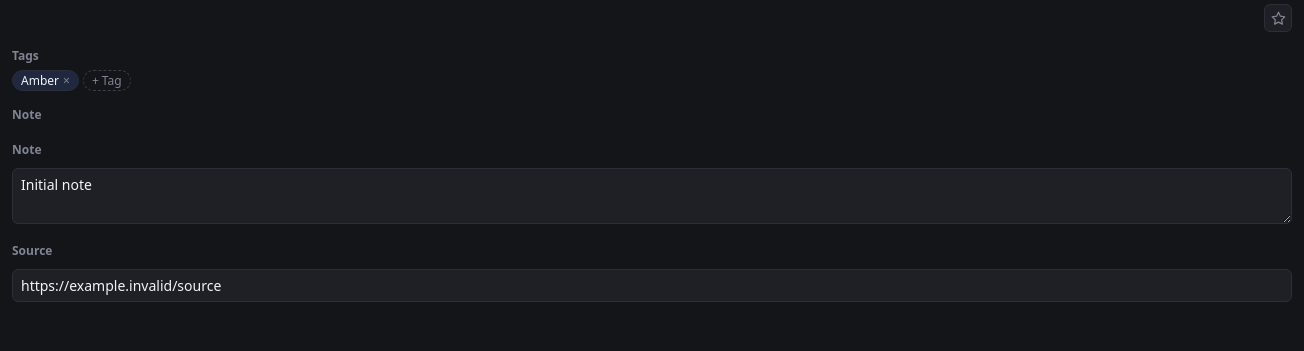
Test: File note and source save causally with $alive and retain drafts in localStorage
The image size is (1304, 351).
Expected: the field named "File source" holds "https://example.invalid/source", [12,269,1292,302]
Replace the text in the text box named "file note" with "Updated note" at (652, 196), box [12,168,1292,224]
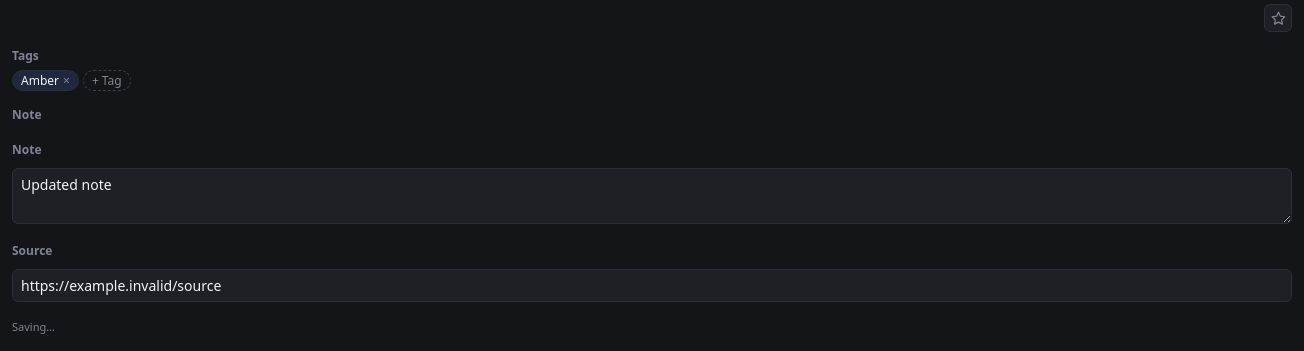
Replace the text in the field named "File source" with "https://synthetic.invalid/clip" at (652, 286), box [12,269,1292,302]
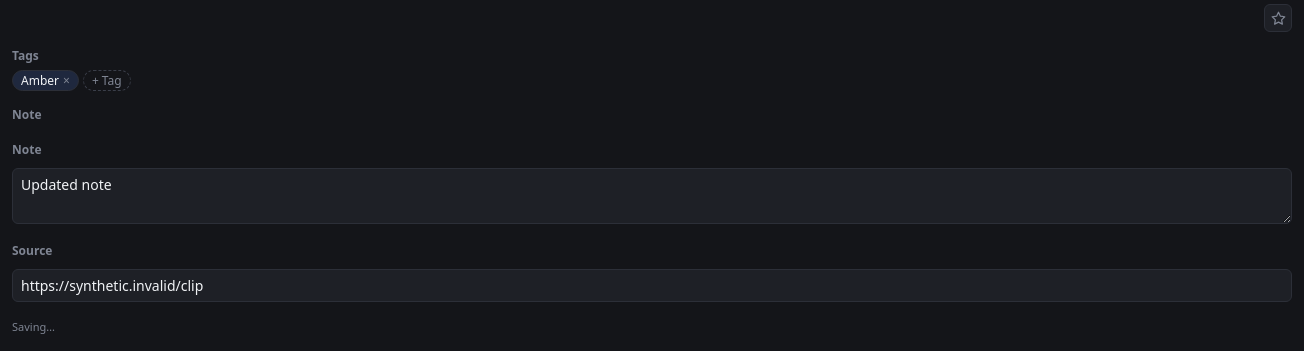
Leave the field named "File source", box [12,269,1292,302]
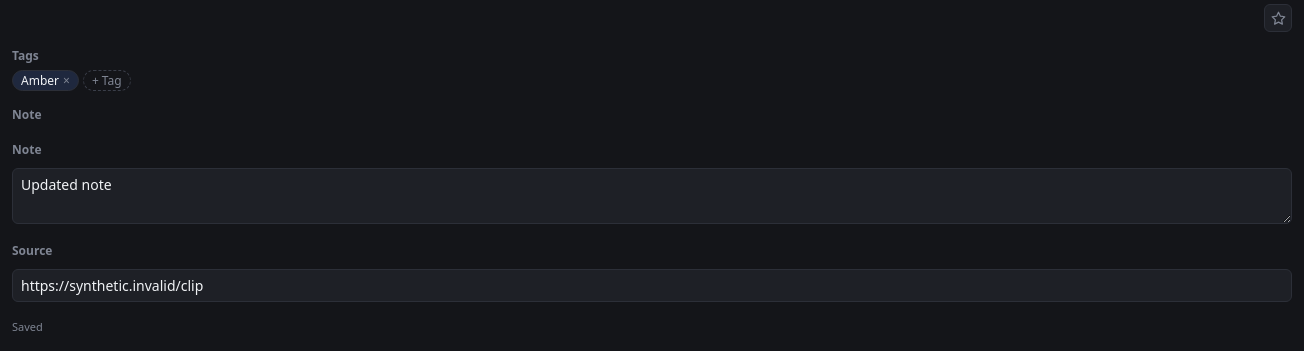
Result: the message reads "Saved" at [12,319,43,334]
